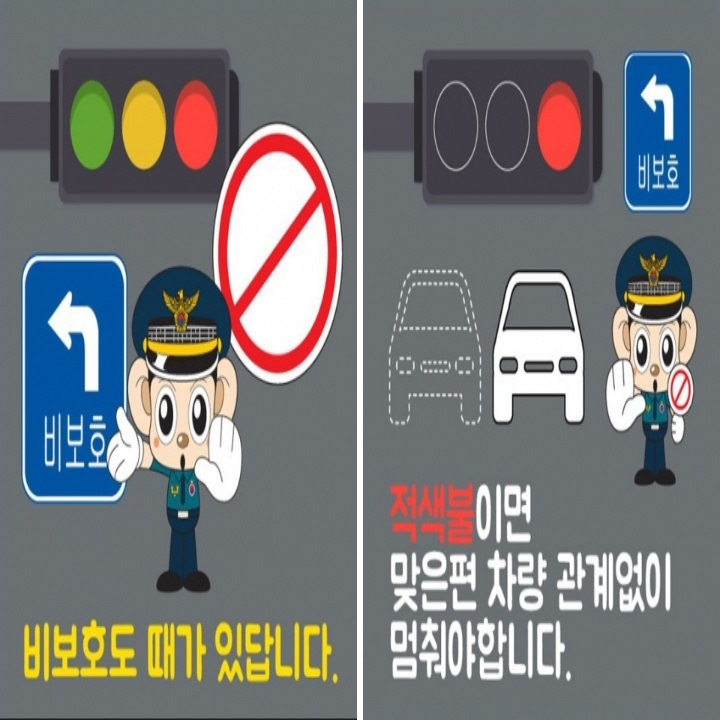left: (37, 285, 114, 396), (635, 68, 682, 148)
